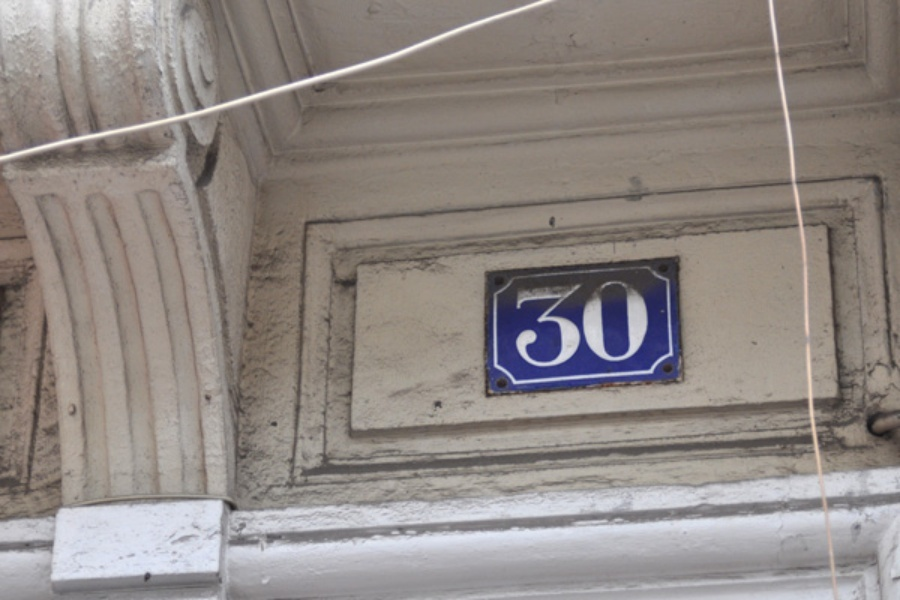text: (529, 277, 544, 368), (545, 277, 560, 368), (561, 277, 576, 368), (577, 277, 592, 368), (593, 277, 608, 368), (609, 277, 624, 368), (625, 277, 640, 368), (514, 277, 528, 368), (641, 277, 649, 368)
